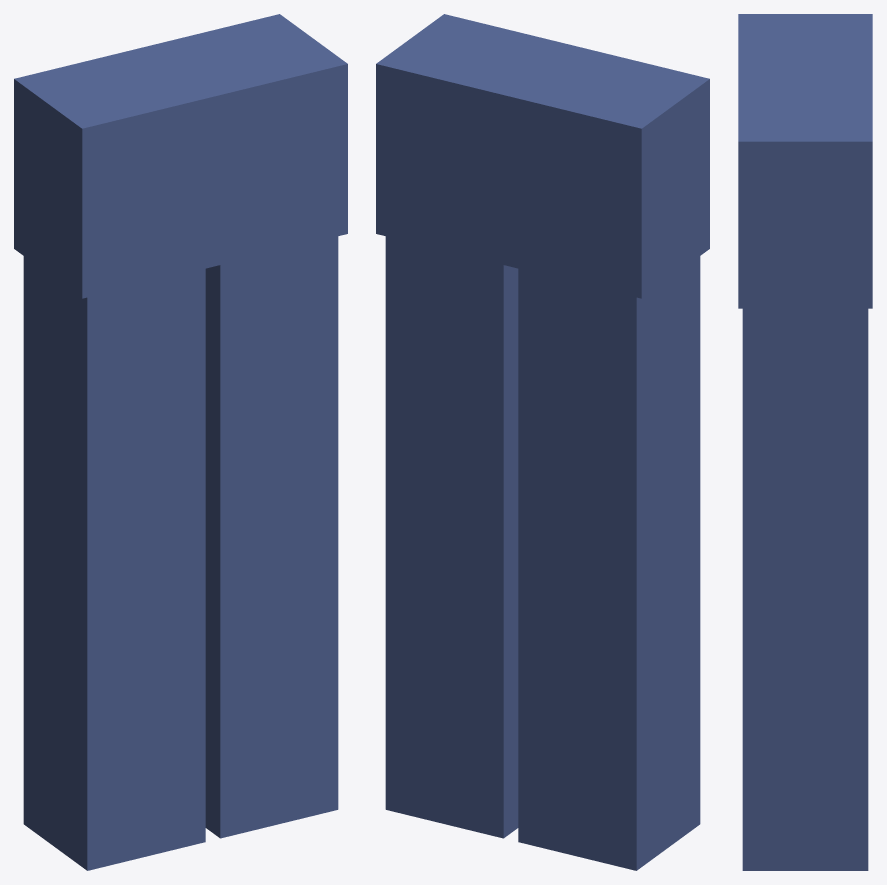
The model's file is c_jeans_blue.glb.
3 views of the same model, side by side, from view 1: azimuth 30°, elevation 25°; view 2: azimuth 150°, elevation 25°; view 3: azimuth 270°, elevation 25° (orthographic).
Visible parts, largest first — view 1: c_jeans_blue; view 2: c_jeans_blue; view 3: c_jeans_blue.
Part boxes in pixels (x1=…): c_jeans_blue: x1=14, y1=14, x2=347, y2=870; c_jeans_blue: x1=376, y1=14, x2=709, y2=870; c_jeans_blue: x1=738, y1=14, x2=872, y2=870.
Bounding box in the file's own units: 0.36 × 0.965 × 0.16.
